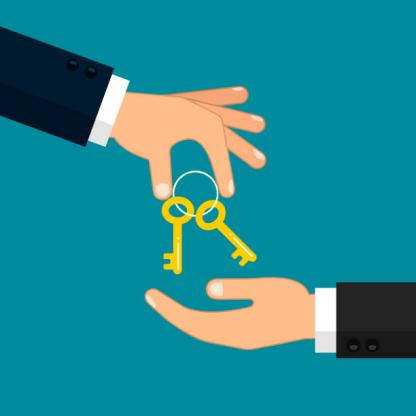keys: (160, 194, 258, 280)
